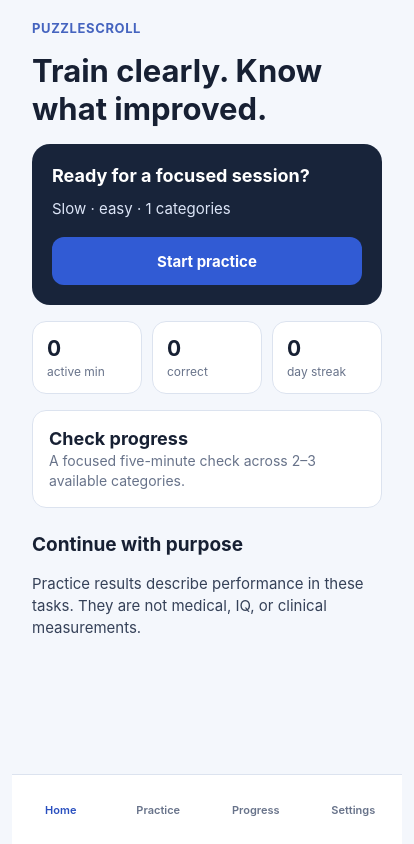
Test: rendered session flow › F01/F04: unsupported selection shows a clear empty-pool message without fallback
Click the button "Start practice": (207, 261) [52,237,362,285]
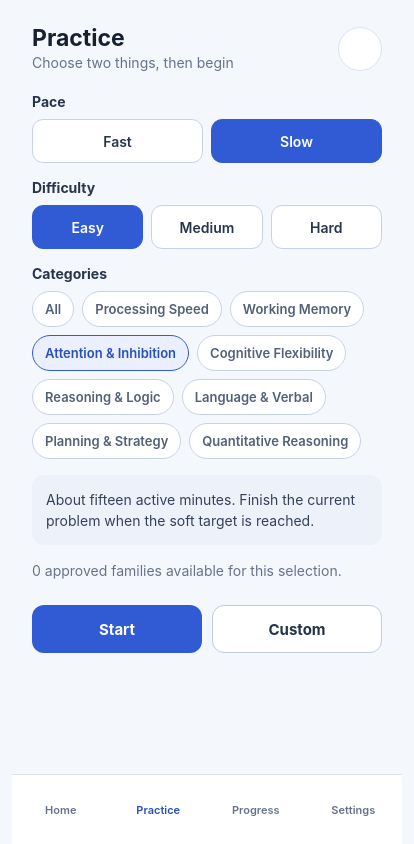
Check: the text "0 approved families available for this selection." is shown, box [32,561,382,581]
Click the button "Start": (117, 629) [32,605,202,653]
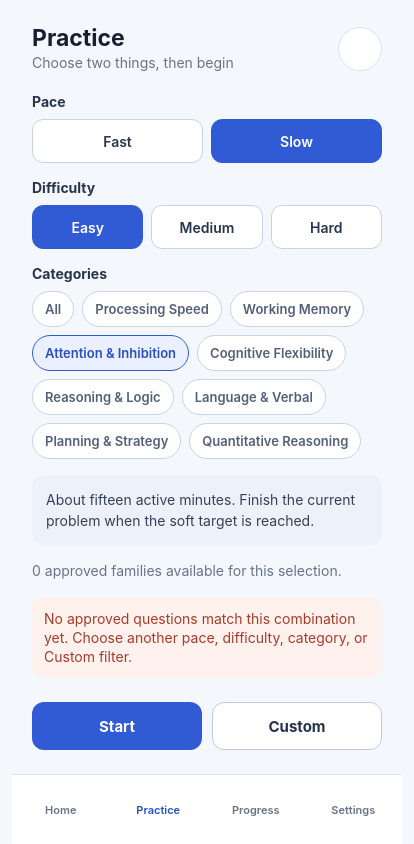
Check: the message shows "No approved questions match", box [44,610,372,665]
